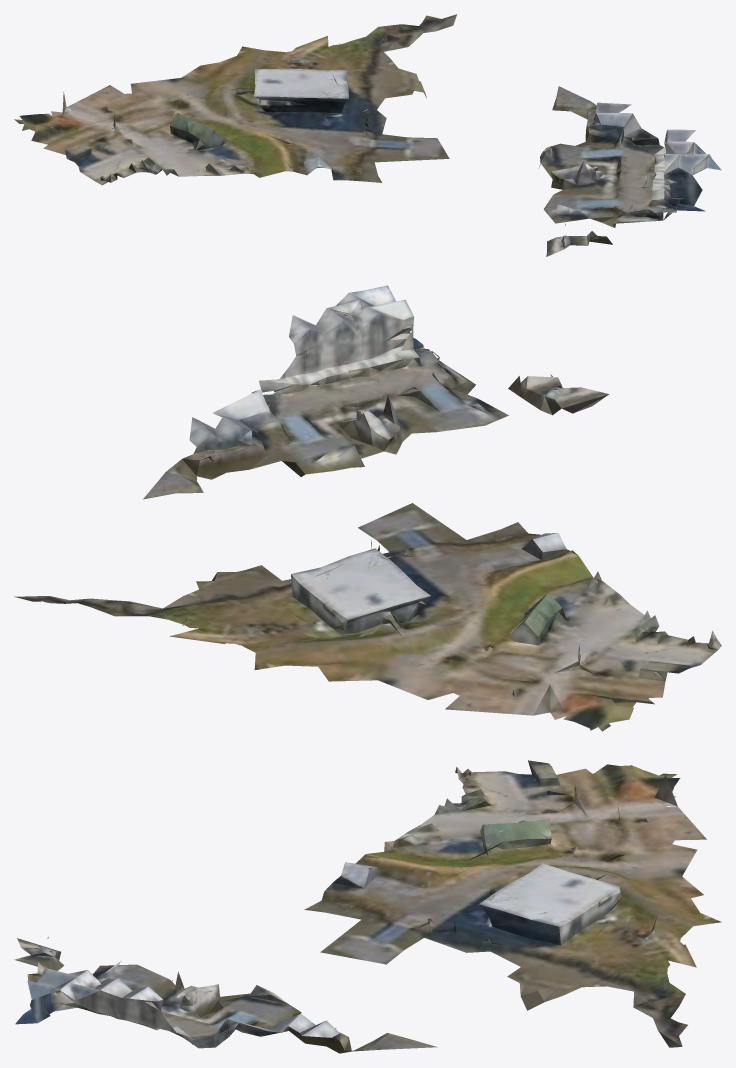
File: Tile_008_011_L16.gltf
The picture shows the model from 3 angles, top to bottom: view 1: azimuth 30°, elevation 25°; view 2: azimuth 150°, elevation 25°; view 3: azimuth 270°, elevation 25°; orthographic projection. The views are drawn at different scales.
Visible parts, largest first — view 1: Tile_+008_+011_L16; view 2: Tile_+008_+011_L16; view 3: Tile_+008_+011_L16.
Boxes of the visible parts, bbox=[...] form: Tile_+008_+011_L16: bbox=[14, 14, 721, 256]; Tile_+008_+011_L16: bbox=[14, 285, 721, 731]; Tile_+008_+011_L16: bbox=[14, 760, 721, 1053].
Size of the model in its own units: 216 by 27.04 by 227.
Materials: 1 (1 with a texture image).
